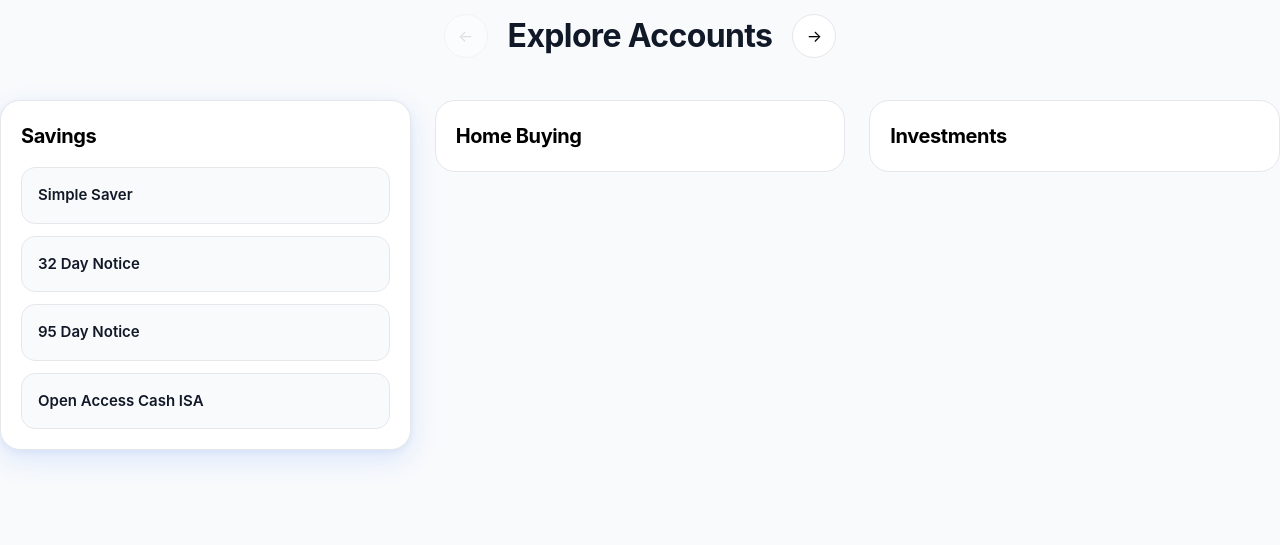
Test: AccountsExplorer › only shows one product description at a time
Click the button "Simple Saver". click: (85,194)
box: [22,168,389,222]
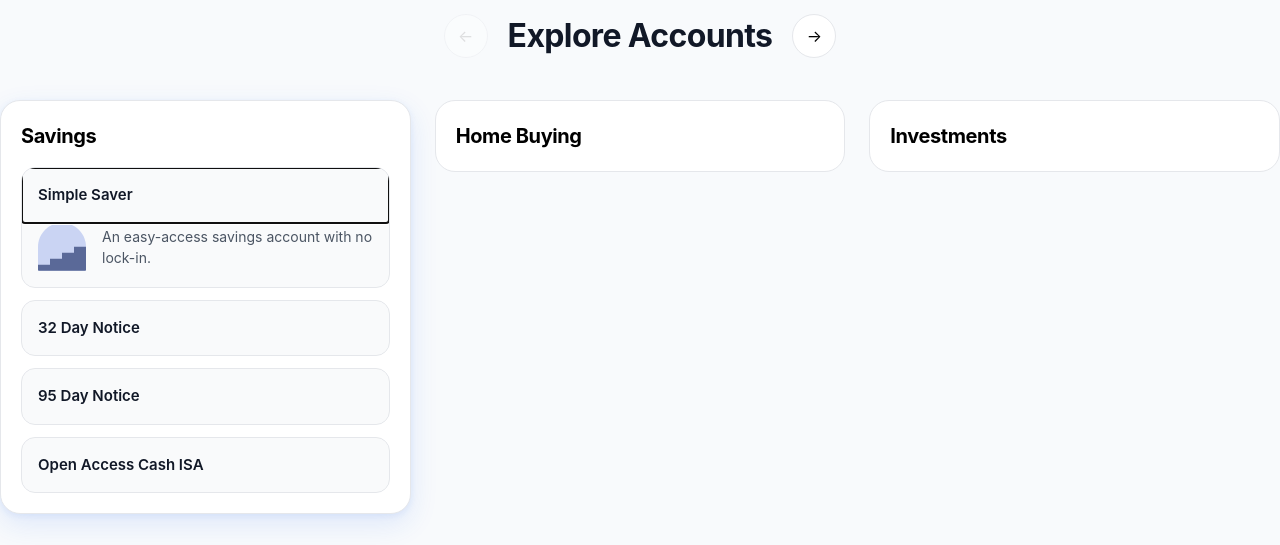
Click the button "32 Day Notice". click: (89,327)
box: [22,300,389,355]
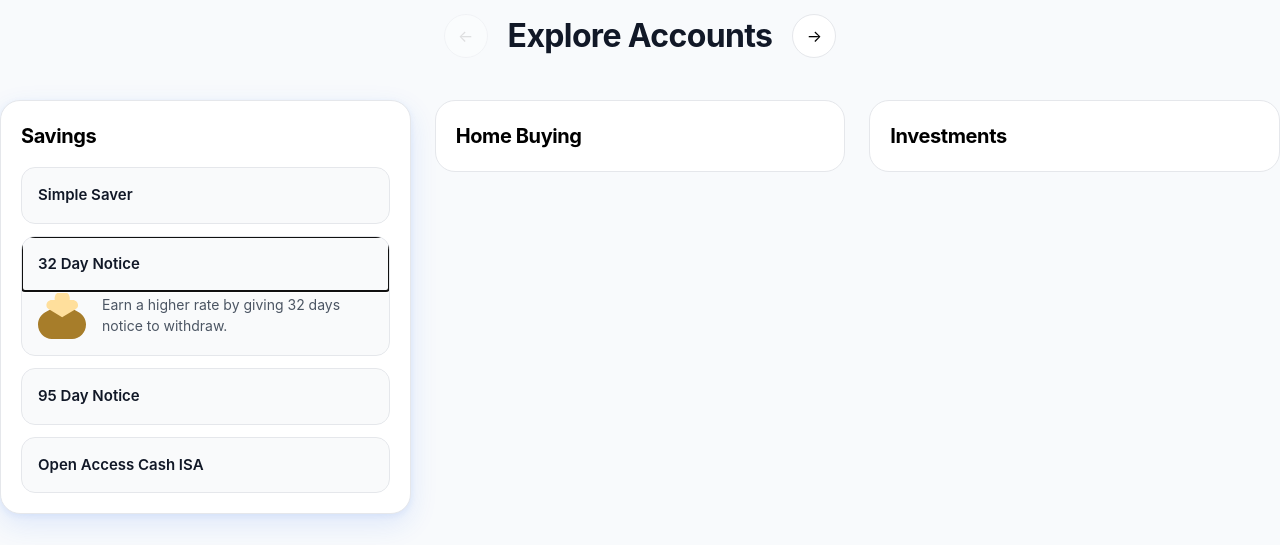
Expected: the text "An easy-access savings account with no lock-in." is gone
Expected: the text "Earn a higher rate by giving 32 days notice to withdraw." is shown, [102,294,373,336]
